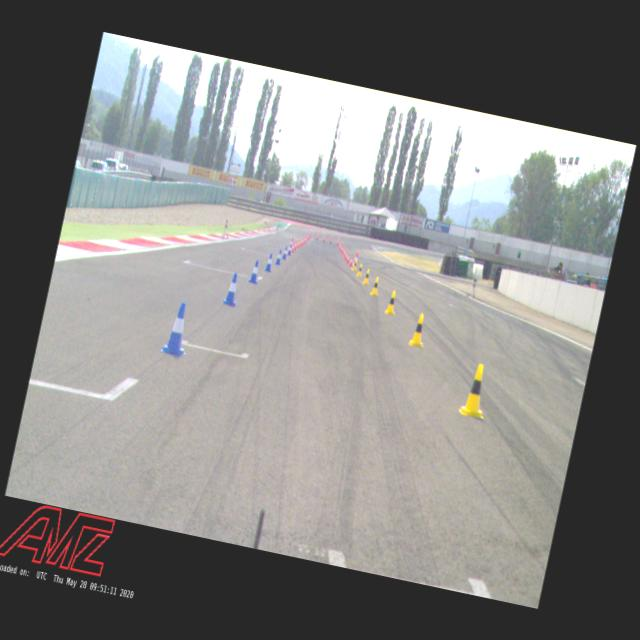blue_cone: (160, 299, 196, 358), (221, 270, 242, 308), (247, 258, 262, 284), (263, 252, 275, 272), (274, 248, 284, 266), (280, 246, 288, 260), (286, 242, 293, 255)
large_orange_cone: (350, 251, 360, 271), (286, 235, 296, 254), (328, 234, 333, 244), (322, 232, 326, 242), (336, 236, 340, 246), (315, 231, 319, 240)
yellow_cone: (457, 361, 494, 420), (408, 312, 430, 348), (384, 288, 399, 316), (368, 275, 382, 297), (362, 268, 372, 286), (355, 263, 364, 277), (351, 258, 358, 272)
